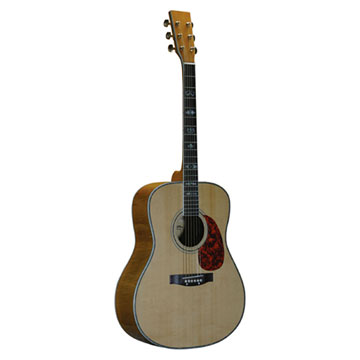guitar: (113, 6, 247, 352)
